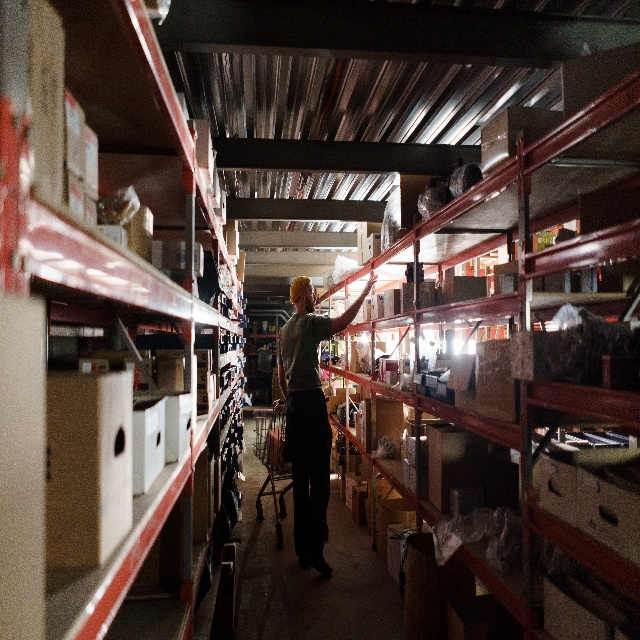Sin_guantes: (362, 274, 378, 297)
